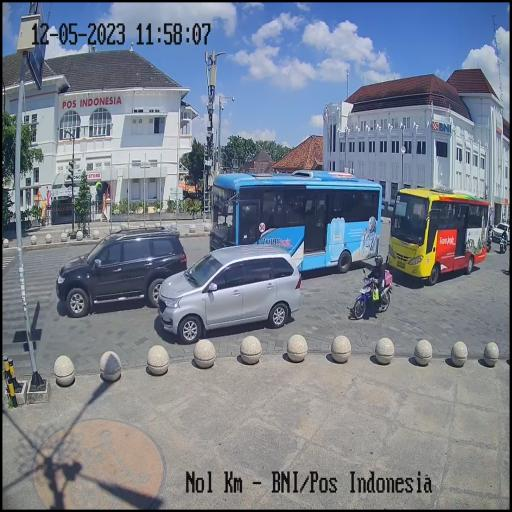mobil: (210, 166, 385, 285), (157, 242, 302, 337), (56, 226, 186, 319), (389, 183, 489, 287)
motor: (352, 269, 393, 325)
